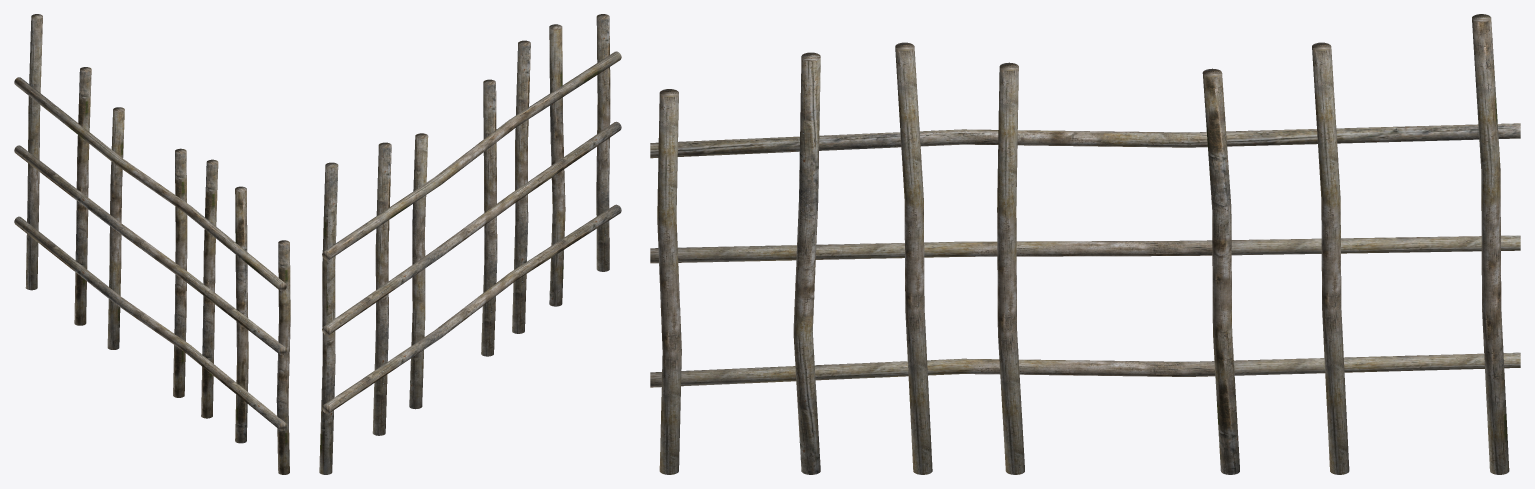
Rendered from fencea.fbx.
The picture shows the model from 3 angles, left to right: view 1: azimuth 30°, elevation 25°; view 2: azimuth 150°, elevation 25°; view 3: azimuth 270°, elevation 25°; orthographic projection. The views are drawn at different scales.
Parts seen in each view (by area): view 1: fence; view 2: fence; view 3: fence.
Boxes of the visible parts, <box> form: fence: <box>14,14,290,474</box>; fence: <box>319,14,621,474</box>; fence: <box>650,14,1520,474</box>.
Size of the model in its own units: 2.99 by 47.33 by 82.45.
